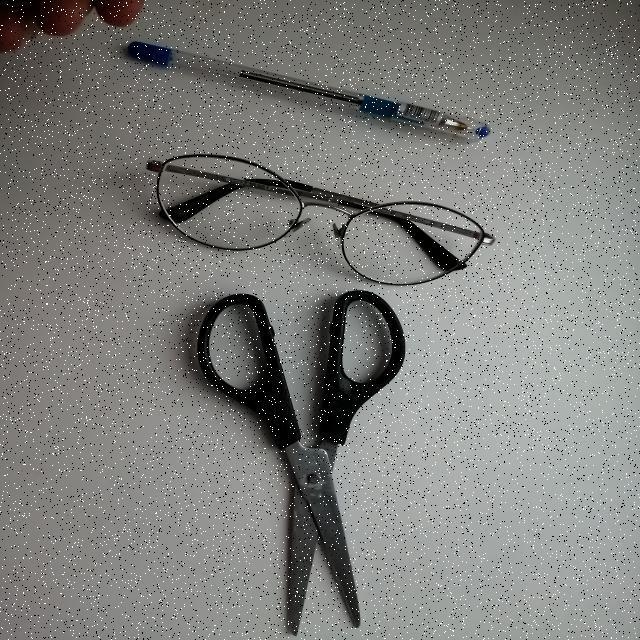scissors: (179, 287, 421, 640)
